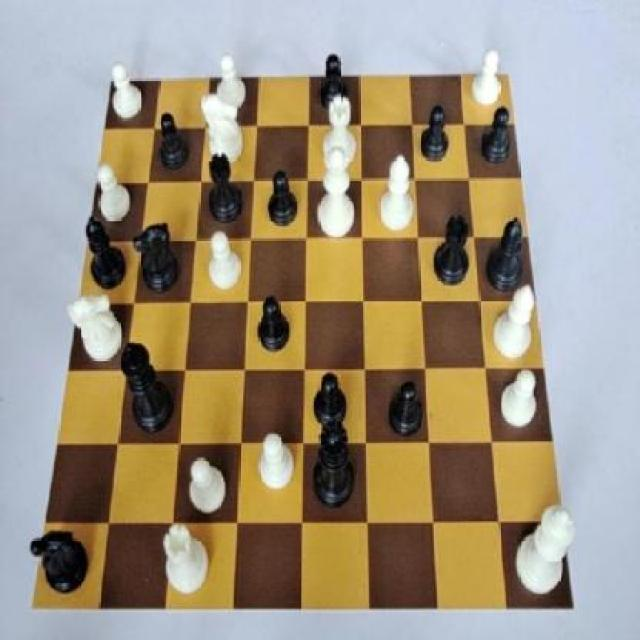bishop: (482, 210, 532, 302), (85, 215, 132, 304)
black-bishop: (117, 337, 178, 440)
black-king: (29, 518, 95, 602), (131, 218, 183, 298)
black-knight: (249, 290, 302, 366), (152, 104, 198, 178), (475, 99, 520, 174), (382, 376, 430, 446), (314, 43, 354, 119), (412, 101, 456, 167), (258, 163, 300, 232), (309, 371, 354, 433)
black-pawn: (309, 415, 362, 521)
black-queen: (198, 149, 247, 229), (428, 216, 474, 292)
black-rook: (488, 272, 538, 363), (374, 145, 420, 236)
white-bishop: (511, 491, 576, 607)
white-king: (198, 90, 252, 176), (68, 289, 123, 369)
white-knight: (492, 364, 546, 440), (178, 451, 234, 521), (254, 422, 303, 498), (103, 54, 149, 129), (90, 160, 138, 231), (210, 44, 256, 116), (465, 43, 513, 111), (202, 226, 244, 300)
white-pawn: (314, 142, 360, 246)
white-queen: (156, 518, 214, 604), (316, 91, 360, 167)
